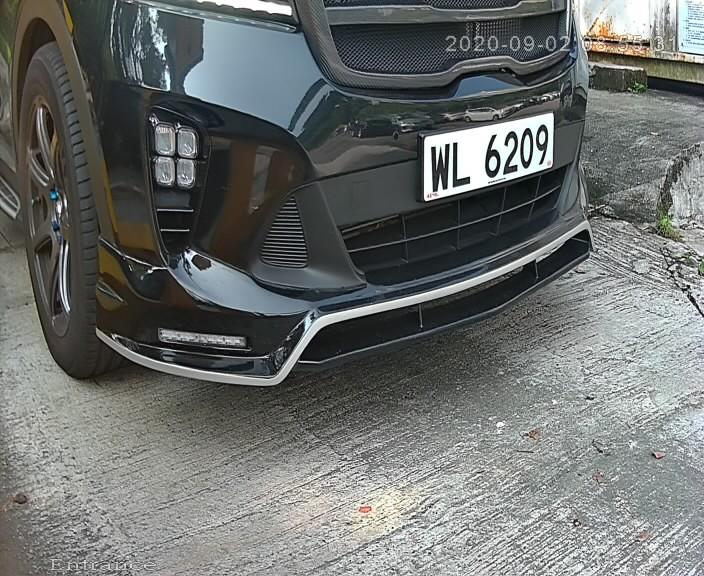License Plate: (412, 101, 563, 209)
